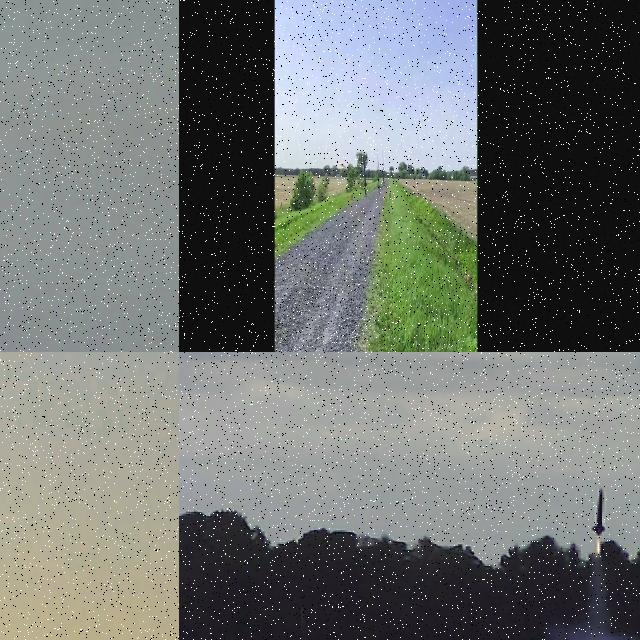Rocket: (589, 487, 607, 537), (364, 160, 366, 187)
